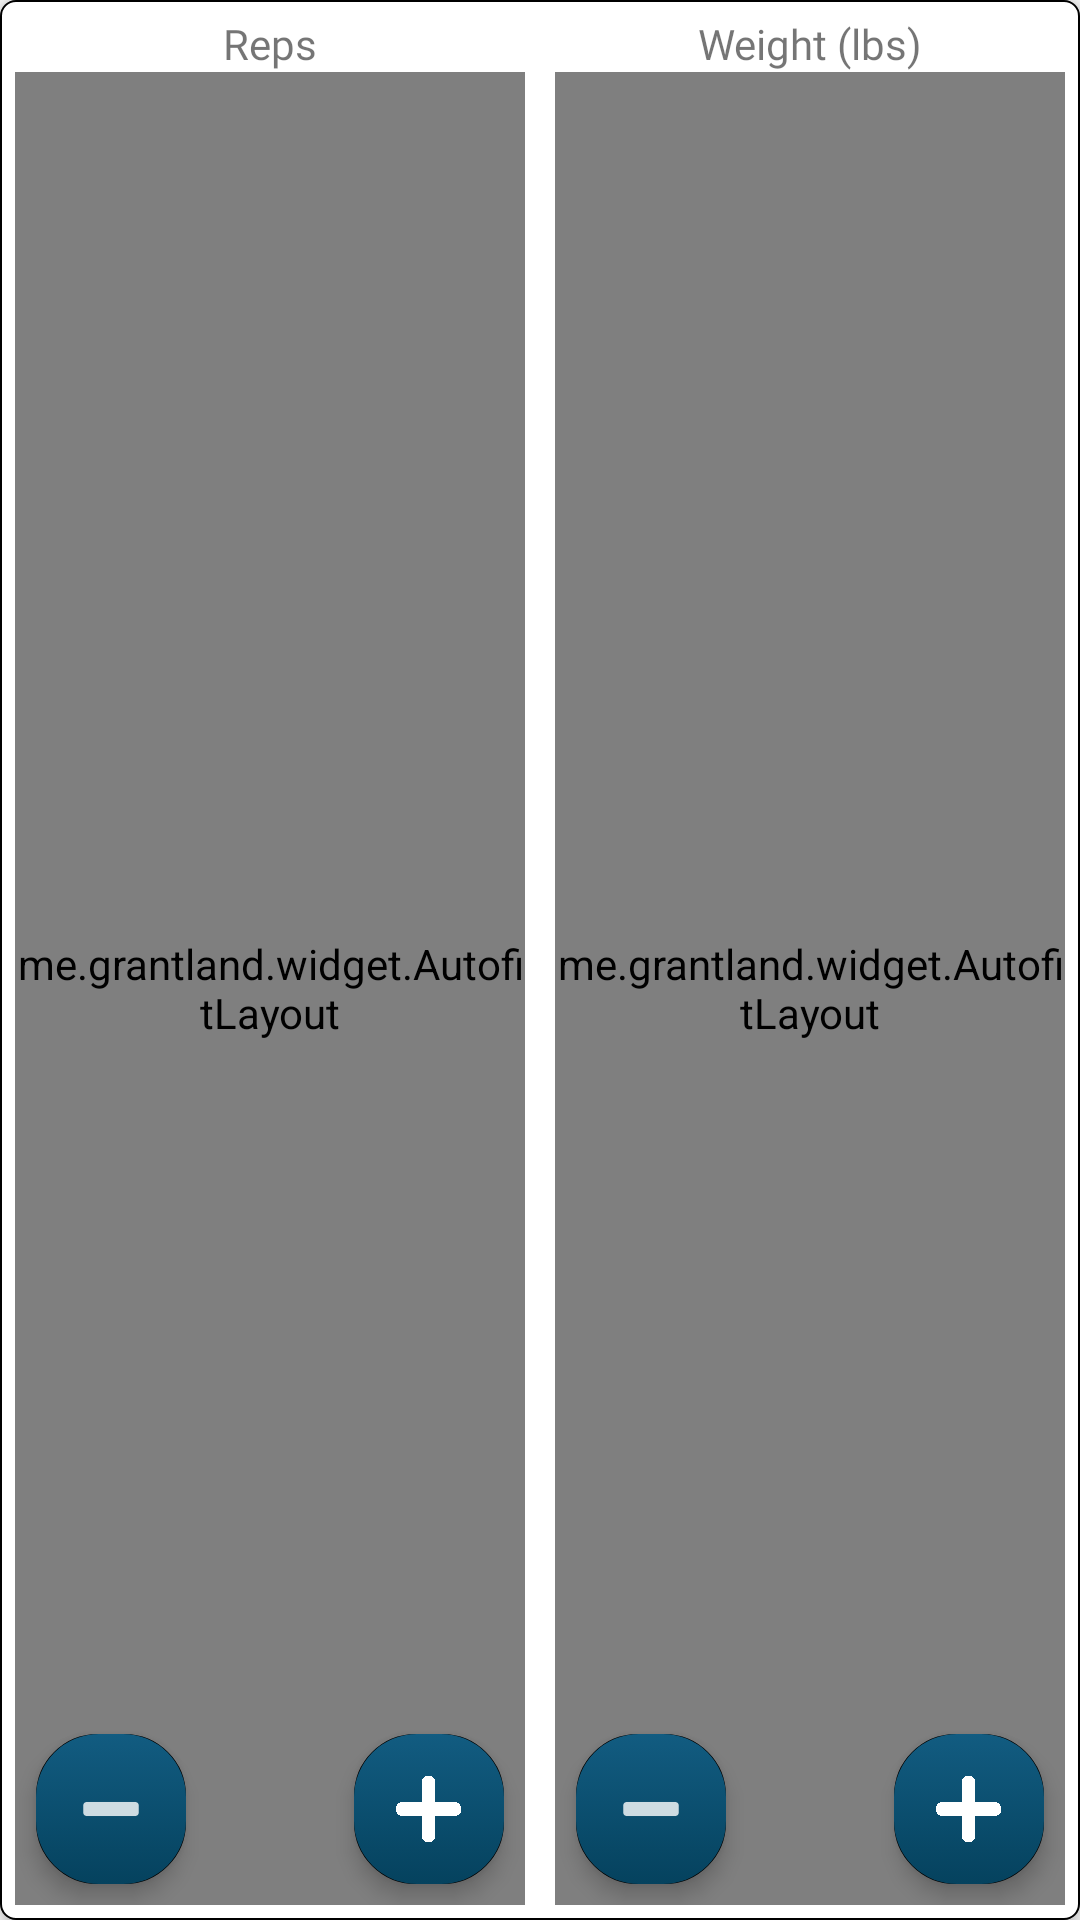

Icons on this 1080×1920 Android screen, each with its box as (x1, y1, x2, y2):
minus: (36, 1734, 186, 1884), (576, 1734, 726, 1884)
plus: (354, 1734, 504, 1884), (894, 1734, 1044, 1884)
